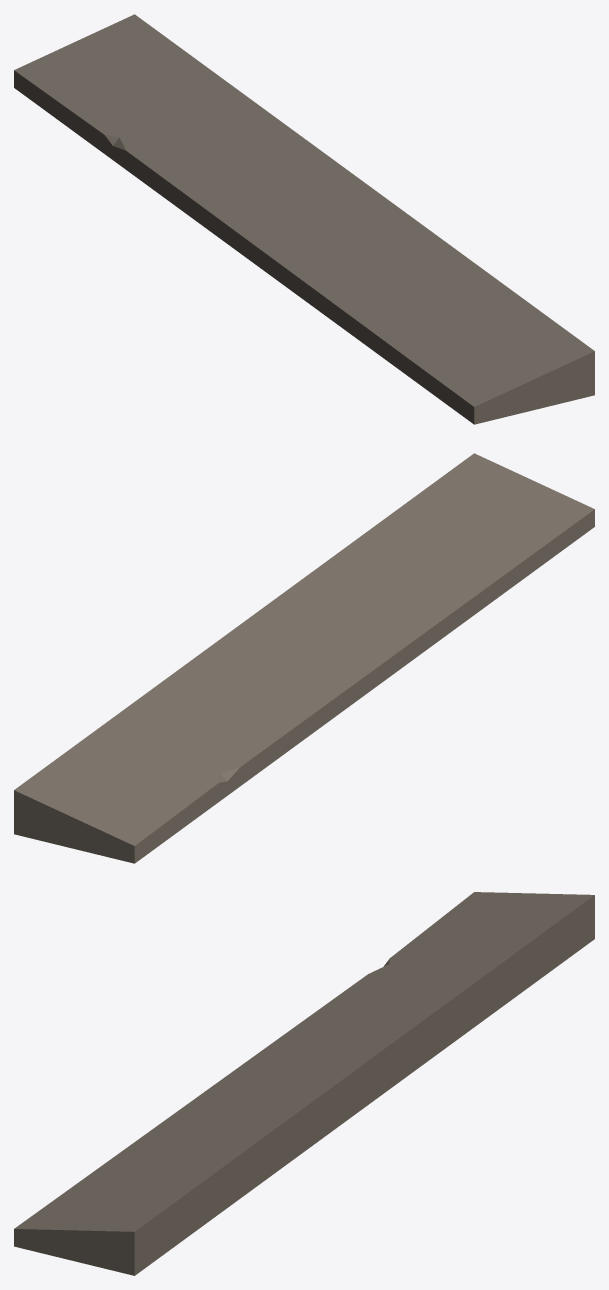
The model's file is Wh_Window_Sill.fbx.
The picture shows the model from 3 angles, top to bottom: view 1: azimuth 30°, elevation 25°; view 2: azimuth 150°, elevation 25°; view 3: azimuth 330°, elevation 25°; orthographic projection.
Parts seen in each view (by area): view 1: Cube.013; view 2: Cube.013; view 3: Cube.013.
Boxes of the visible parts, x1,y1,x2,y2 form: Cube.013: [14, 14, 594, 424]; Cube.013: [14, 453, 594, 863]; Cube.013: [14, 892, 594, 1275].
Size of the model in its own units: 32.96 by 11.51 by 218.
